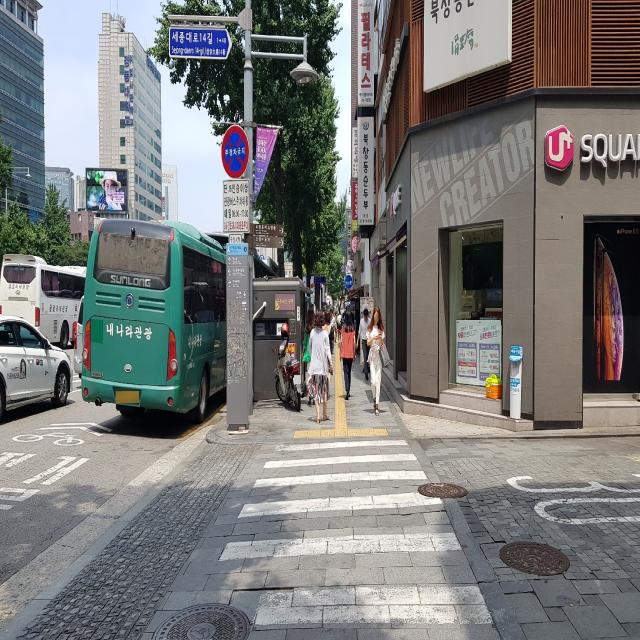횡단보도: (218, 437, 496, 627)
